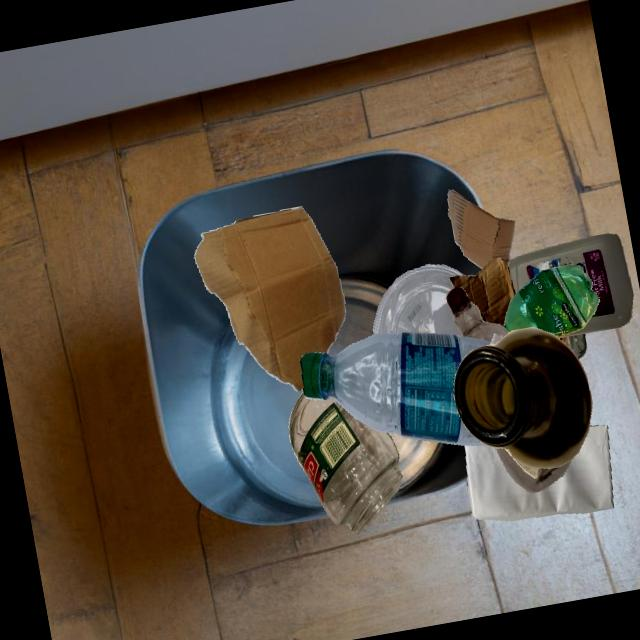cardboard: (194, 206, 346, 391), (447, 189, 515, 269), (448, 257, 515, 325)
glass: (453, 327, 592, 468), (288, 391, 402, 534), (558, 333, 586, 358)
paper: (464, 425, 613, 520), (504, 448, 539, 478), (490, 333, 503, 344)
plastic: (300, 332, 491, 445), (507, 233, 633, 338), (502, 264, 599, 337), (373, 264, 464, 336), (445, 286, 509, 341), (495, 447, 570, 493)
